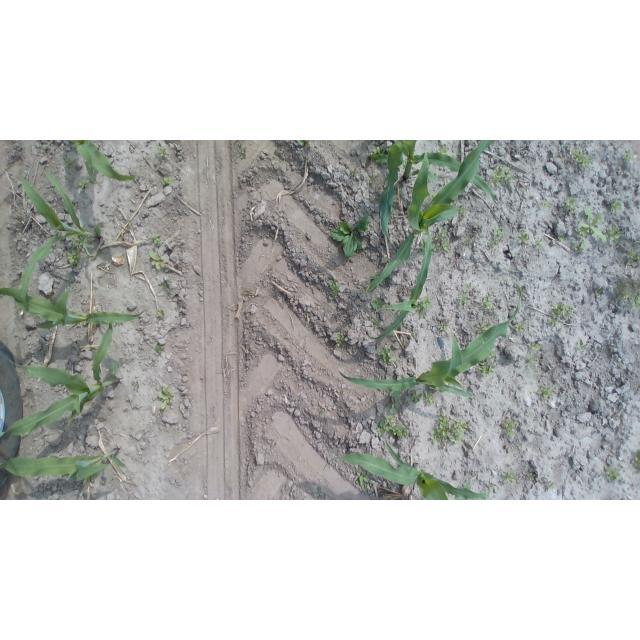Maize: (338, 279, 522, 399), (363, 141, 494, 296), (0, 323, 120, 438), (370, 140, 495, 236), (21, 171, 103, 315), (320, 440, 492, 500), (1, 279, 148, 329), (371, 226, 432, 342), (0, 447, 126, 486), (70, 140, 142, 184), (454, 473, 470, 500)
Weeds: (330, 213, 371, 257), (429, 407, 467, 445), (574, 206, 606, 242), (614, 279, 640, 309), (377, 414, 408, 438), (546, 301, 574, 326), (489, 165, 515, 188), (157, 383, 175, 410), (486, 226, 504, 251), (333, 327, 350, 351), (572, 149, 590, 168), (604, 465, 622, 483), (572, 235, 587, 255), (419, 296, 432, 319), (523, 352, 537, 373), (156, 278, 173, 295), (605, 226, 624, 241), (537, 384, 553, 401), (328, 279, 340, 301), (70, 237, 94, 248), (378, 346, 393, 363), (150, 252, 165, 269), (155, 142, 169, 160), (502, 419, 516, 437), (627, 249, 640, 268), (480, 296, 494, 313), (478, 363, 494, 377), (563, 197, 577, 213), (424, 389, 437, 405), (355, 471, 369, 485), (455, 293, 469, 307), (503, 471, 518, 484), (518, 229, 530, 245), (67, 249, 80, 263), (370, 298, 384, 310), (610, 199, 622, 213), (441, 237, 452, 252), (149, 233, 164, 244), (474, 322, 489, 333), (410, 391, 422, 404), (633, 449, 640, 471), (577, 337, 588, 351), (436, 322, 449, 333), (623, 149, 633, 162), (78, 179, 89, 190), (237, 149, 248, 160), (462, 281, 474, 291), (515, 322, 525, 333), (541, 199, 552, 209), (162, 176, 174, 185), (295, 141, 310, 148), (430, 241, 438, 254), (65, 157, 75, 167), (371, 318, 380, 329), (418, 237, 425, 251), (436, 146, 448, 154), (489, 351, 496, 364), (349, 168, 359, 177), (438, 225, 447, 235), (526, 472, 536, 481), (546, 481, 554, 492), (369, 172, 376, 184), (530, 343, 539, 352), (154, 343, 162, 353), (390, 403, 398, 413), (536, 238, 544, 248), (462, 238, 472, 245), (156, 310, 164, 318), (361, 484, 369, 492), (558, 235, 567, 242), (376, 146, 383, 154), (609, 345, 616, 353), (594, 290, 602, 297), (504, 275, 511, 282), (460, 209, 467, 216), (319, 408, 325, 415), (370, 275, 377, 280), (47, 291, 53, 296), (560, 328, 565, 333), (271, 440, 275, 446), (456, 153, 463, 156), (341, 390, 344, 395)
